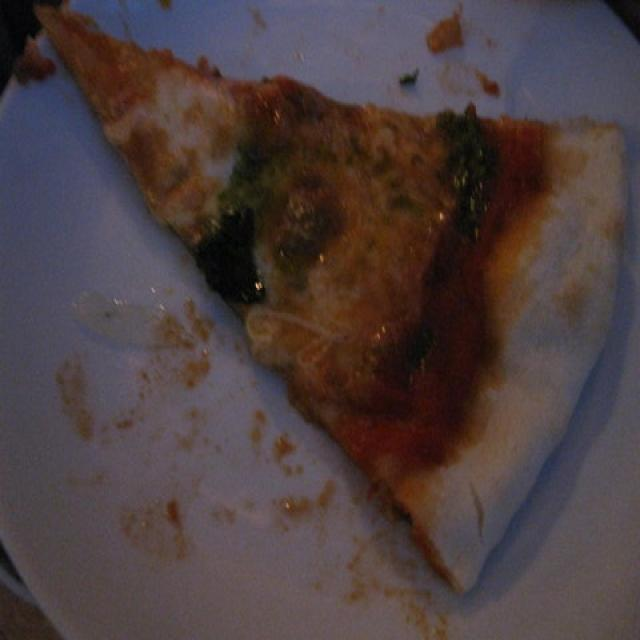Pizza: (26, 16, 640, 599)
